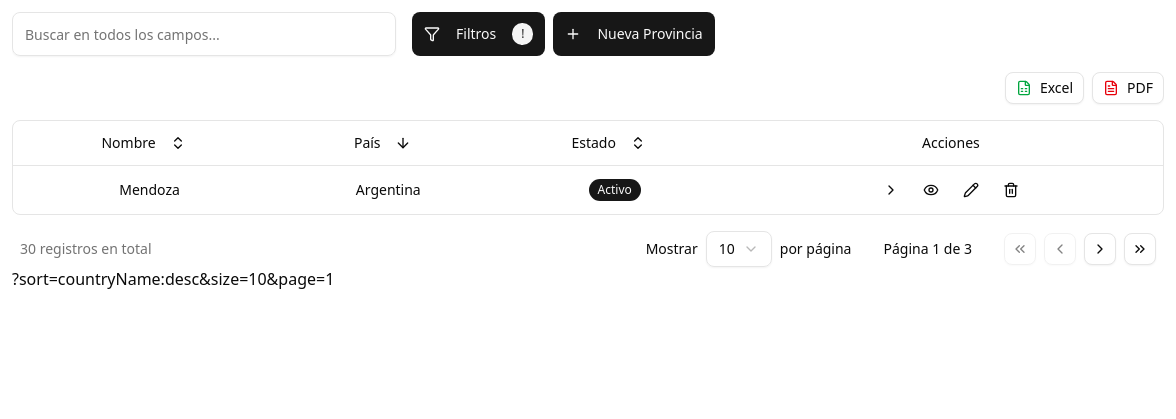
StatesTable sorting › retains the active sort across page and page-size changes
Click the 7th button named "Ir a la página siguiente" at (1100, 249), box x1=1084 y1=233 x2=1116 y2=265
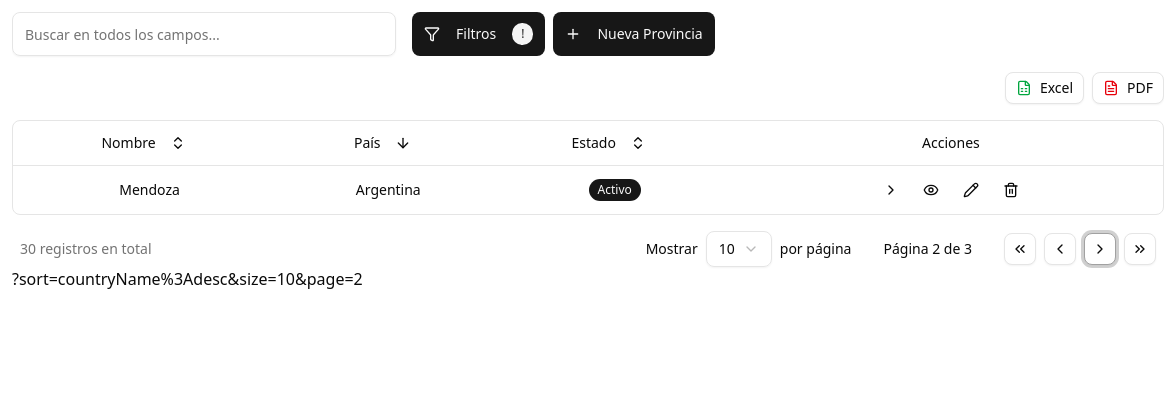
Now the text with test id "search" shows "sort=countryName%3Adesc", box x1=12 y1=268 x2=363 y2=290
Now the text with test id "search" shows "page=2", box x1=12 y1=268 x2=363 y2=290
Click the dropdown at (739, 249), box x1=706 y1=231 x2=772 y2=267
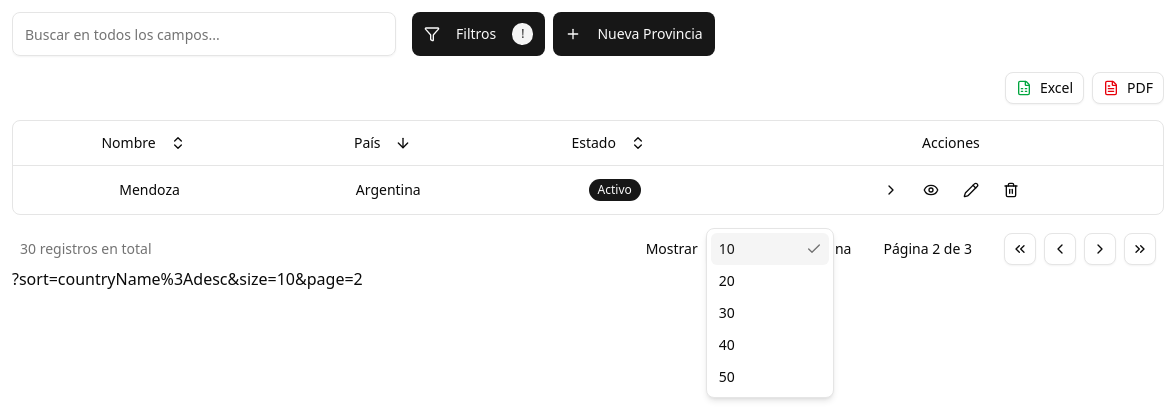
Click the option "20" at (727, 280), box x1=719 y1=271 x2=735 y2=290
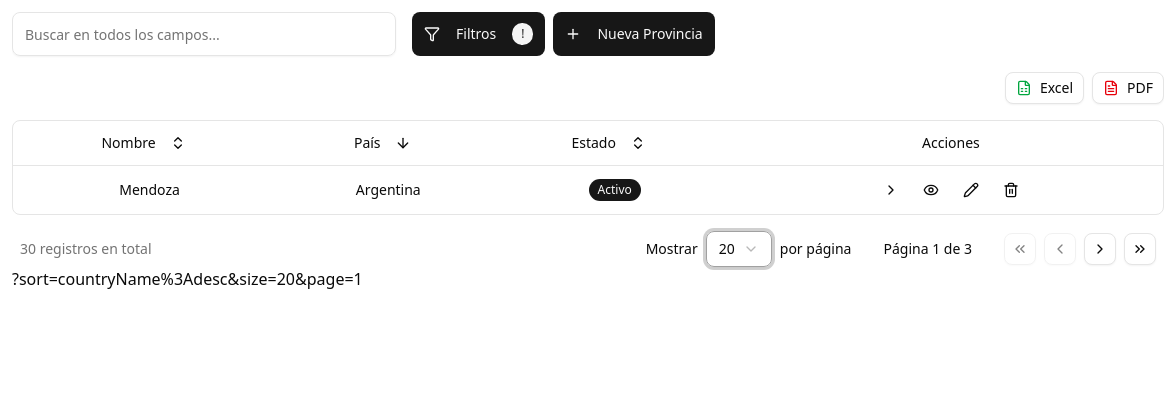
Now the text with test id "search" shows "sort=countryName%3Adesc", box x1=12 y1=268 x2=363 y2=290
Now the text with test id "search" shows "size=20", box x1=12 y1=268 x2=363 y2=290
